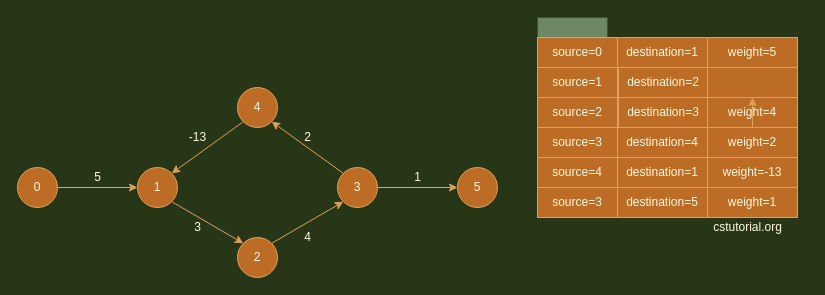
Image size: 825x295. Some labels were removed from this diagram. Here are the shapes that lost their labels. From the top down, the centre of each, then its label:
[572,27]: Edge list
[752,82]: weight=3
